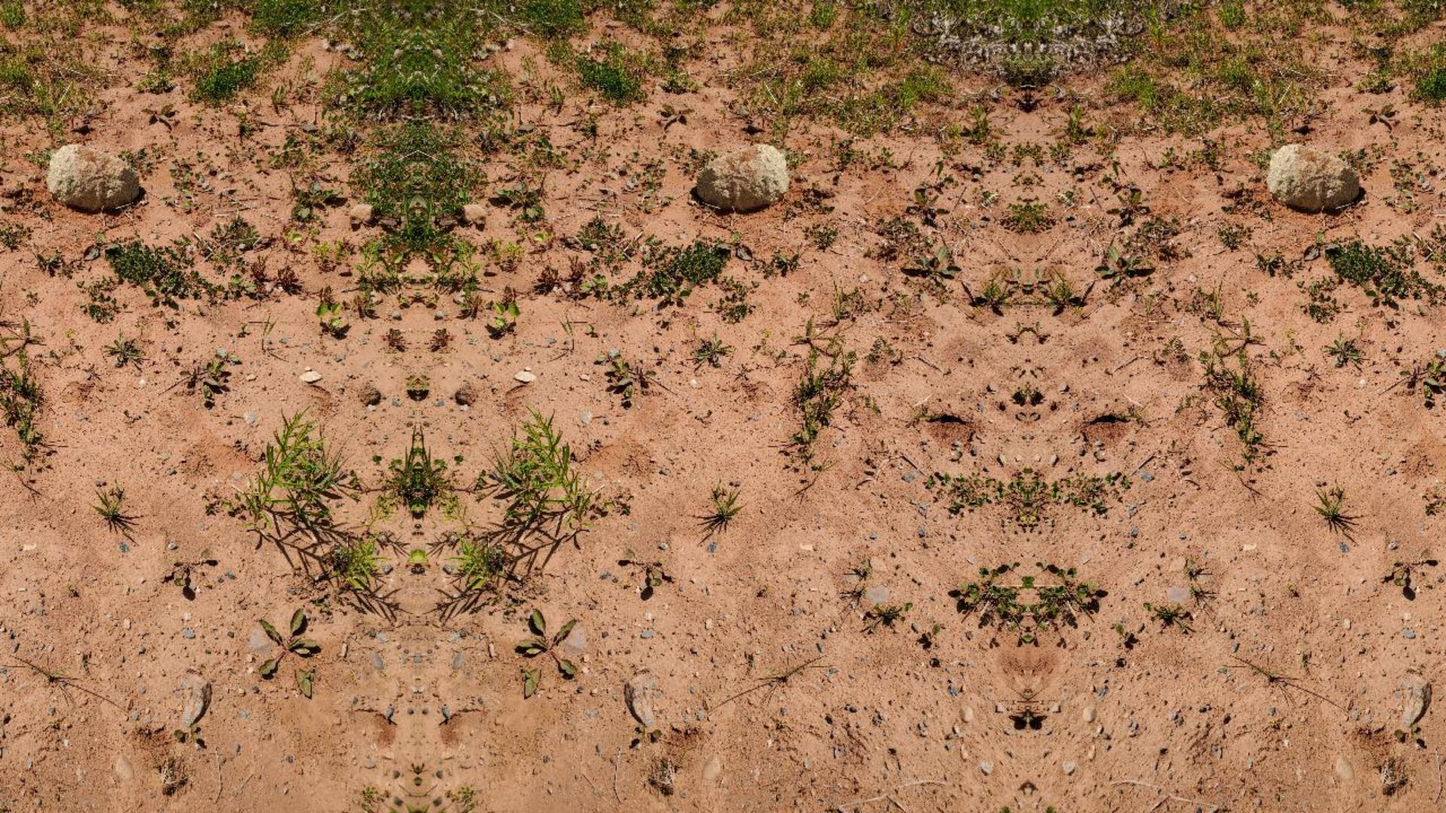rock: (1266, 143, 1362, 210), (46, 143, 141, 210), (695, 143, 787, 210)
